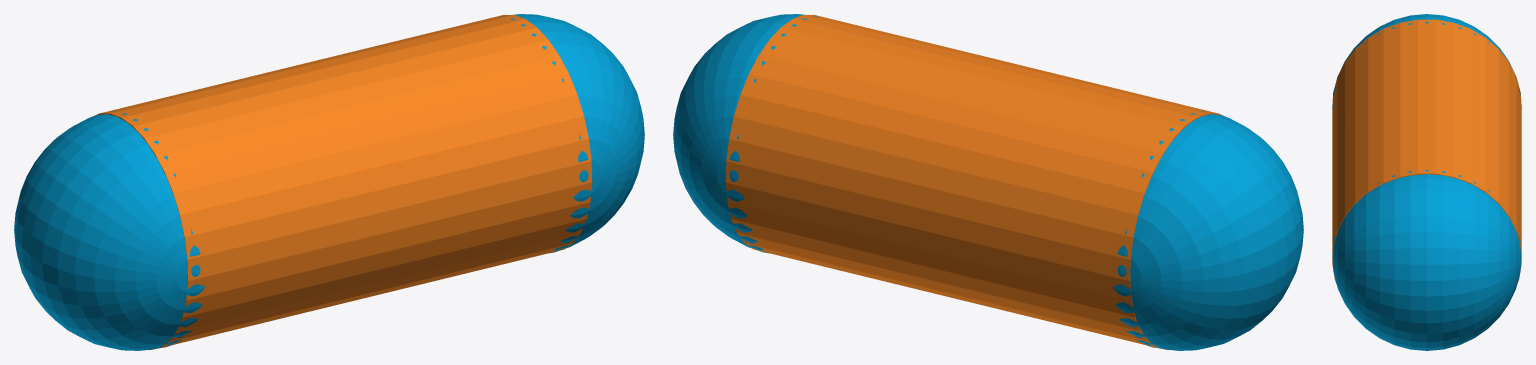
File: tinker.obj
3 renders of one model, left to right at view 1: azimuth 30°, elevation 25°; view 2: azimuth 150°, elevation 25°; view 3: azimuth 270°, elevation 25°, orthographic. The views are drawn at different scales.
Parts seen in each view (by area): view 1: group_0_16089887, group_0_40919; view 2: group_0_16089887, group_0_40919; view 3: group_0_16089887, group_0_40919.
Part boxes in pixels (x1,y1,x2,y2): group_0_16089887: (93, 14, 592, 349); group_0_40919: (14, 14, 644, 350); group_0_16089887: (725, 14, 1224, 349); group_0_40919: (673, 14, 1303, 350); group_0_16089887: (1332, 19, 1521, 283); group_0_40919: (1332, 14, 1521, 350).
Bounding box in the file's own units: 37 × 13 × 13.
